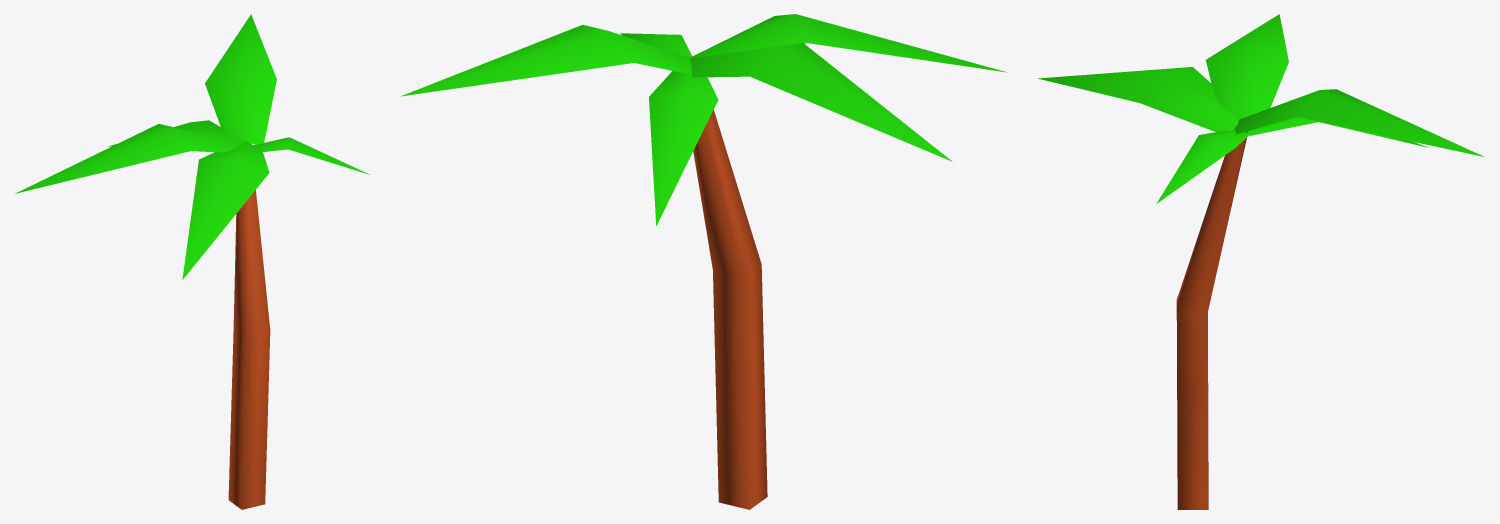
The model's file is palm_tree_2.fbx.
The picture shows the model from 3 angles, left to right: view 1: azimuth 30°, elevation 25°; view 2: azimuth 150°, elevation 25°; view 3: azimuth 270°, elevation 25°; orthographic projection. The views are drawn at different scales.
Parts seen in each view (by area): view 1: Cube; view 2: Cube; view 3: Cube.
Part boxes in pixels (x1,y1,x2,y2): Cube: [15, 14, 369, 509]; Cube: [401, 14, 1007, 509]; Cube: [1038, 14, 1484, 509].
Bounding box in the file's own units: 329 × 367 × 339.
